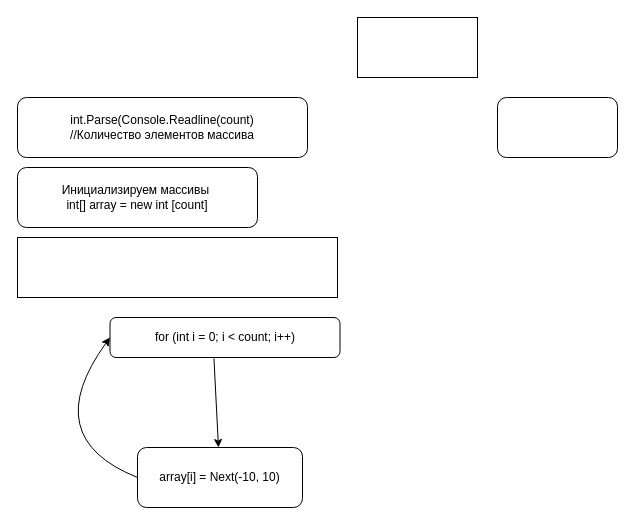
Some shapes in this 635 by 525 pixel diagram are drawn without their labels. The shapes that lost their labels are listed below. From the top down, each one's centre as x and y in pixels, then its label:
the point at 417,47: Создать массив
the point at 177,267: Рандомный генератор чисел Random rand = new Random();
